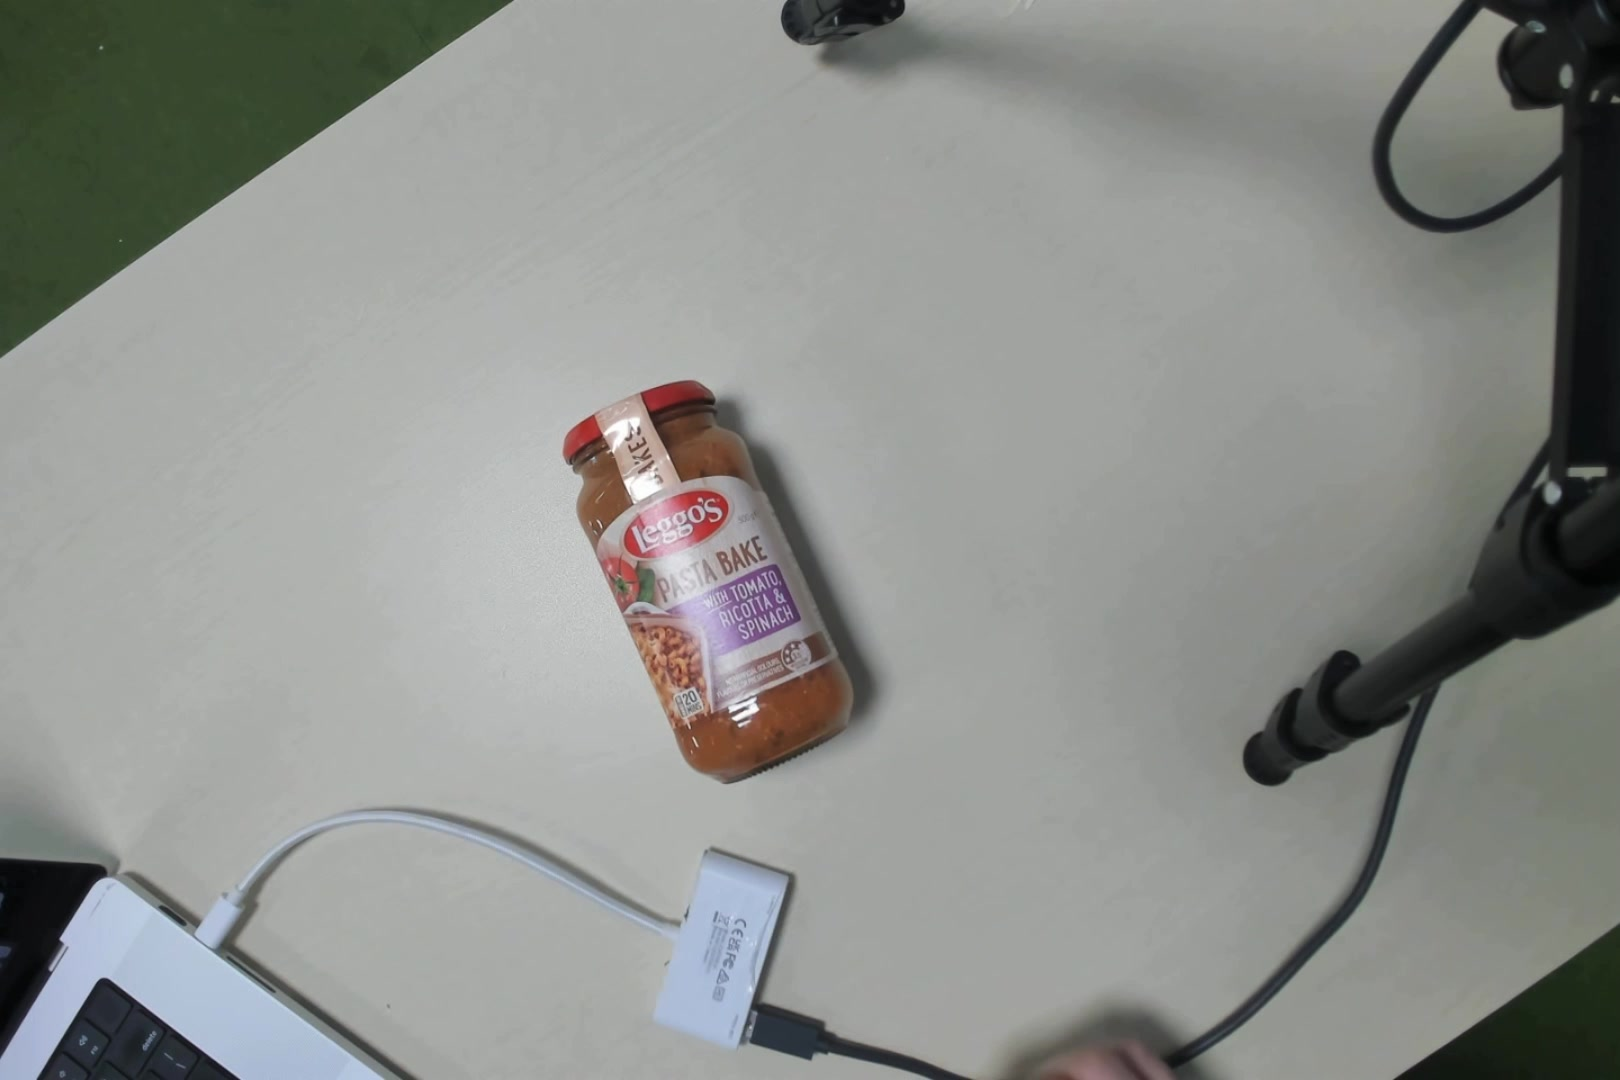Pasta_500-599g_Halal_NonHealthy: (607, 422, 824, 729)
